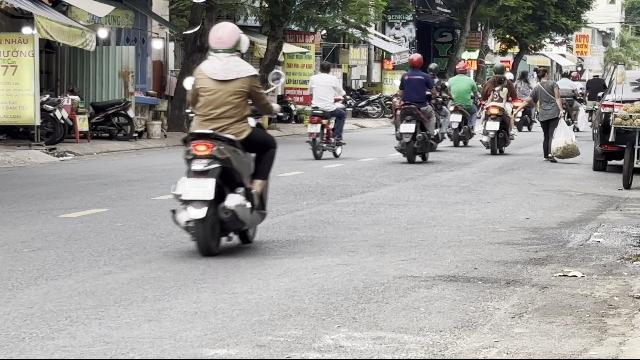helmet: (206, 22, 248, 58), (407, 53, 423, 69)
licenseplate: (181, 178, 215, 200), (400, 124, 414, 132), (308, 124, 320, 132)
motorcyclist: (169, 22, 279, 256), (390, 53, 440, 163), (304, 60, 348, 160)
nohelmet: (318, 60, 332, 74)
